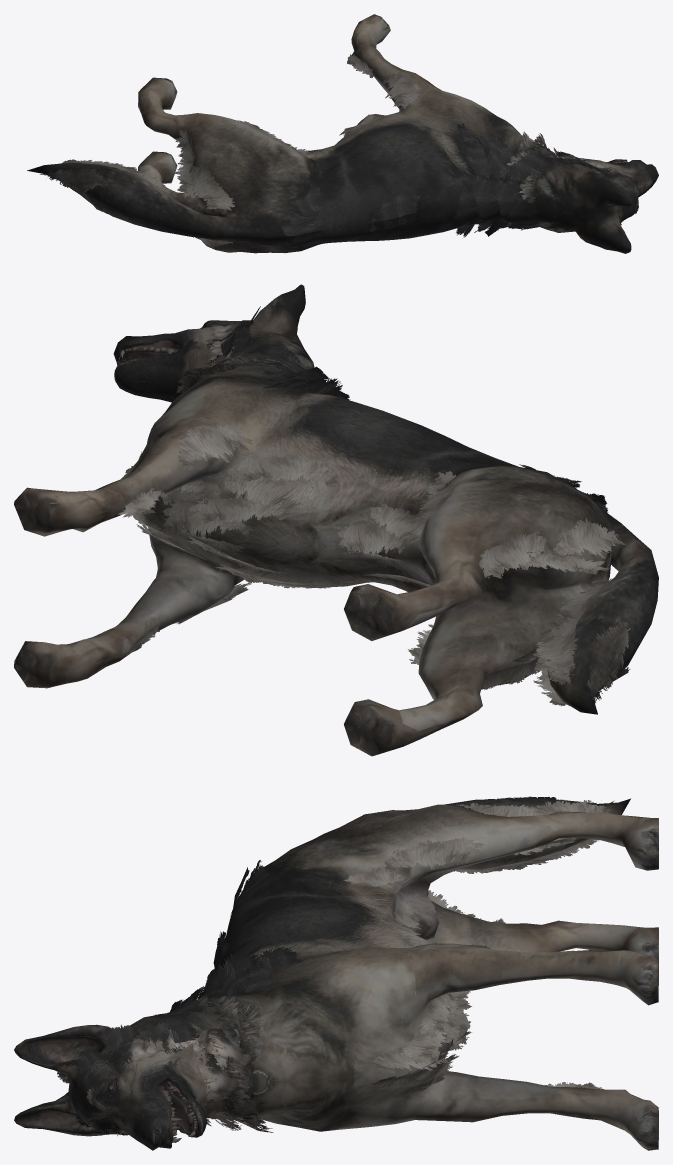
Rendered from german_shepherd_LOD0.obj.
3 renders of one model, top to bottom at view 1: azimuth 30°, elevation 25°; view 2: azimuth 150°, elevation 25°; view 3: azimuth 270°, elevation 25°, orthographic. The views are drawn at different scales.
Parts seen in each view (by area): view 1: mtl_german_shepherd, mtl_german_shepherd_fur; view 2: mtl_german_shepherd, mtl_german_shepherd_fur; view 3: mtl_german_shepherd, mtl_german_shepherd_fur.
Part boxes in pixels (x1=…): mtl_german_shepherd: x1=27, y1=14, x2=658, y2=253; mtl_german_shepherd_fur: x1=40, y1=54, x2=639, y2=249; mtl_german_shepherd: x1=14, y1=284, x2=658, y2=756; mtl_german_shepherd_fur: x1=117, y1=306, x2=630, y2=706; mtl_german_shepherd: x1=14, y1=798, x2=658, y2=1150; mtl_german_shepherd_fur: x1=57, y1=796, x2=614, y2=1135.
Size of the model in its own units: 134 by 34.3 by 106.
